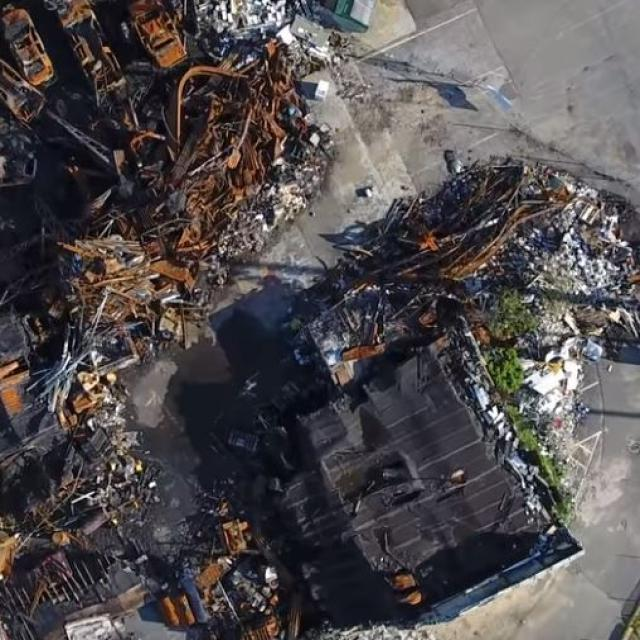collapsed_building: (283, 162, 562, 614), (0, 0, 272, 362)
